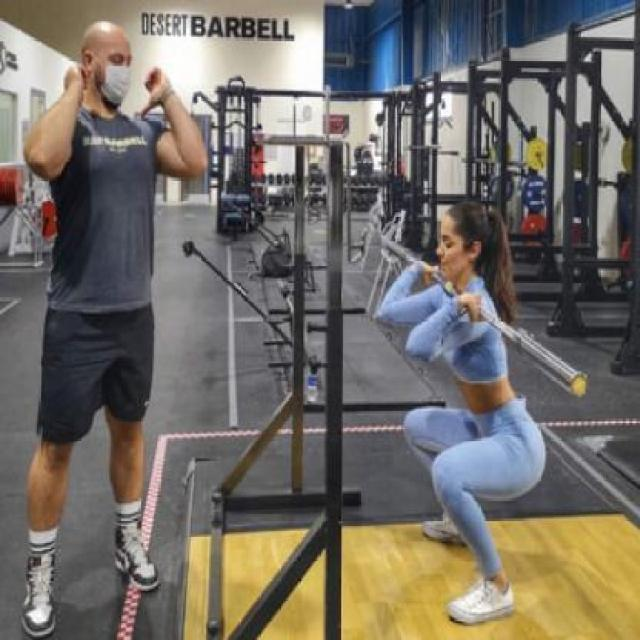barbell: (508, 313, 597, 414)
